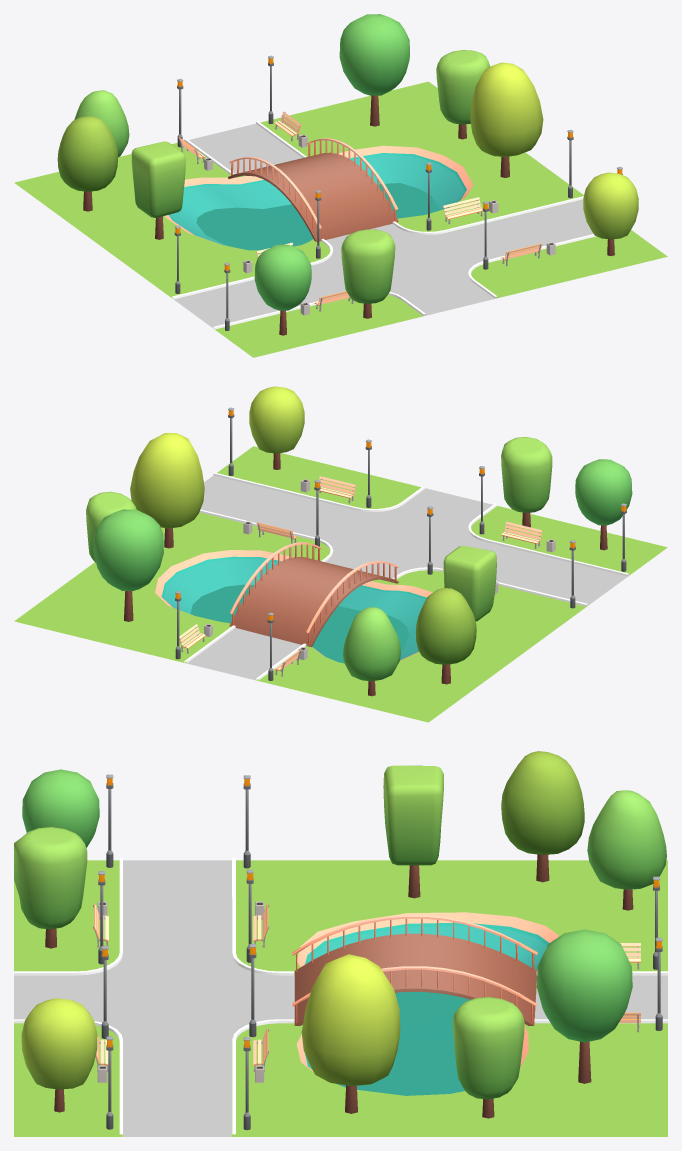
Rendered from Entertainment_Park_06.glb.
The picture shows the model from 3 angles, top to bottom: view 1: azimuth 30°, elevation 25°; view 2: azimuth 150°, elevation 25°; view 3: azimuth 270°, elevation 25°; orthographic projection. The views are drawn at different scales.
Visible parts, largest first — view 1: Entertainment_Park_06; view 2: Entertainment_Park_06; view 3: Entertainment_Park_06.
Boxes of the visible parts, x1=… form: Entertainment_Park_06: x1=14, y1=14, x2=667, y2=357; Entertainment_Park_06: x1=14, y1=386, x2=667, y2=722; Entertainment_Park_06: x1=14, y1=751, x2=667, y2=1136.
Size of the model in its own units: 30 by 9.24 by 30.
Materials: 3 (3 with a texture image).
